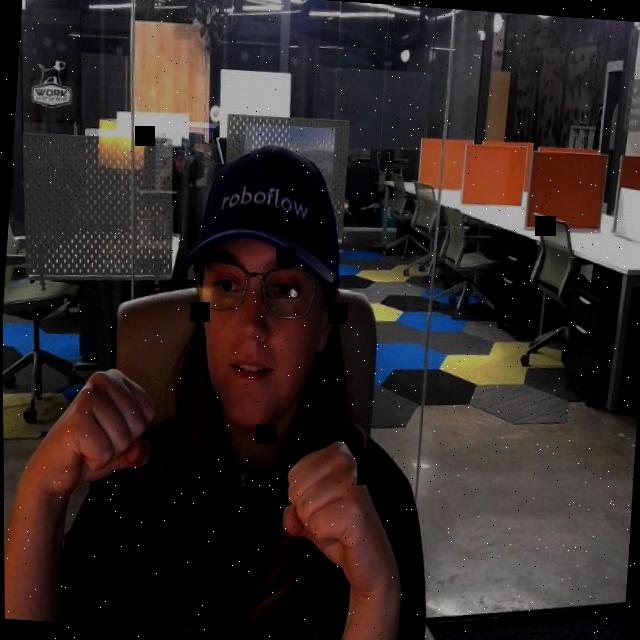Rock: (22, 349, 162, 519), (271, 432, 367, 575)
